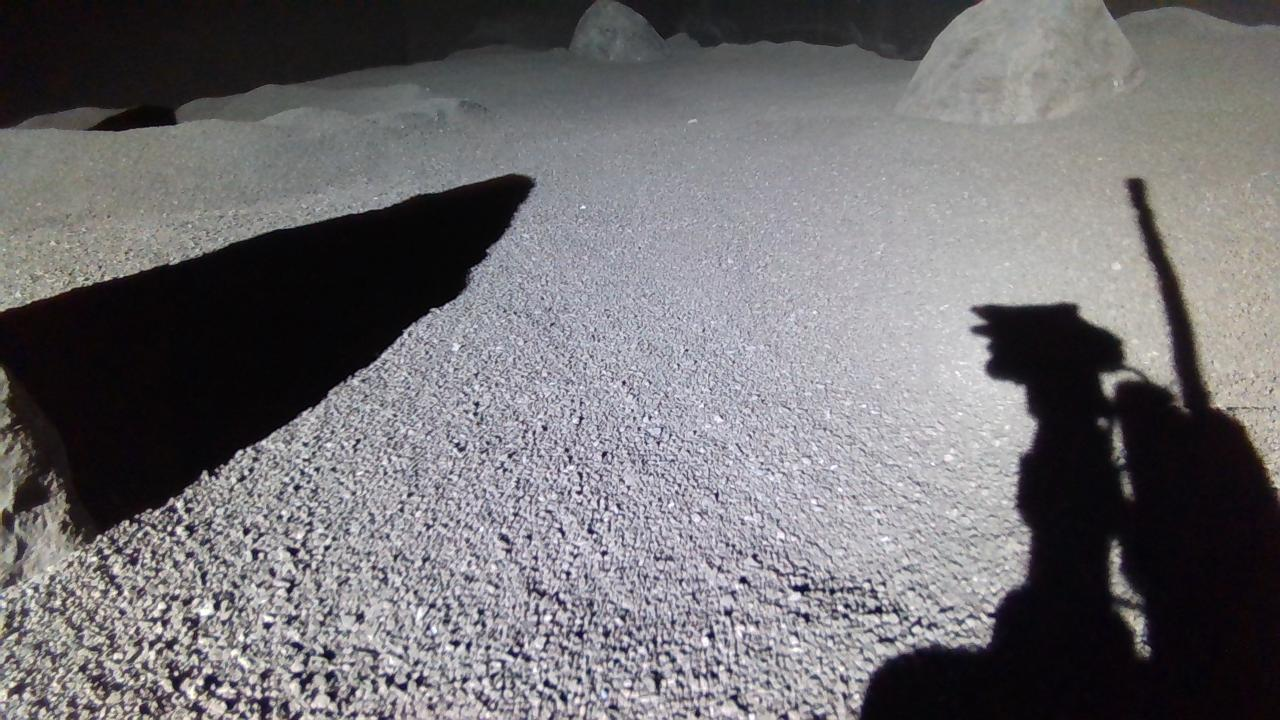rock: (897, 0, 1146, 124), (0, 365, 95, 588), (570, 0, 671, 61)
